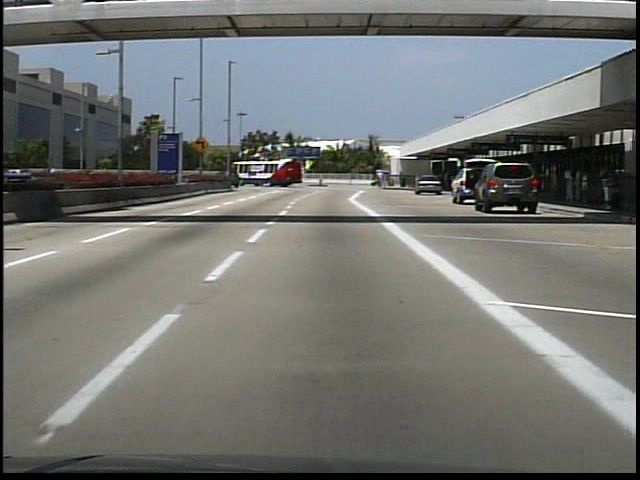person: (595, 164, 617, 212)
